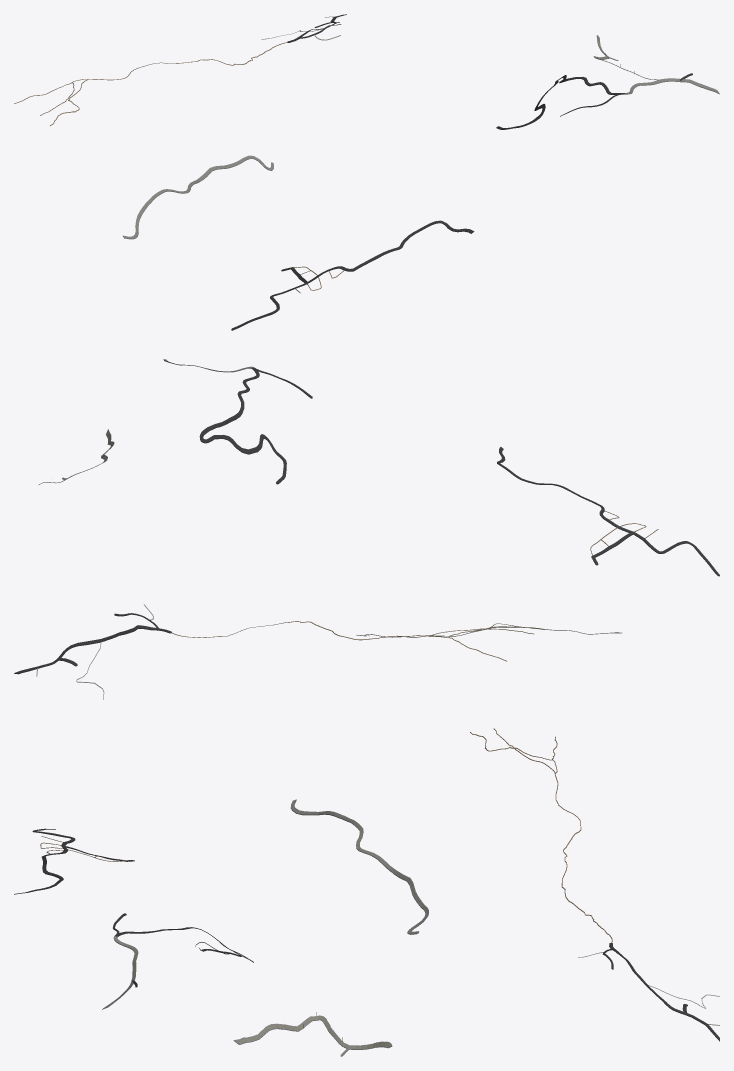
3 renders of one model, top to bottom at view 1: azimuth 30°, elevation 25°; view 2: azimuth 150°, elevation 25°; view 3: azimuth 270°, elevation 25°, orthographic. The views are drawn at different scales.
Size of the model in its own units: 1175 by 253 by 1166.
